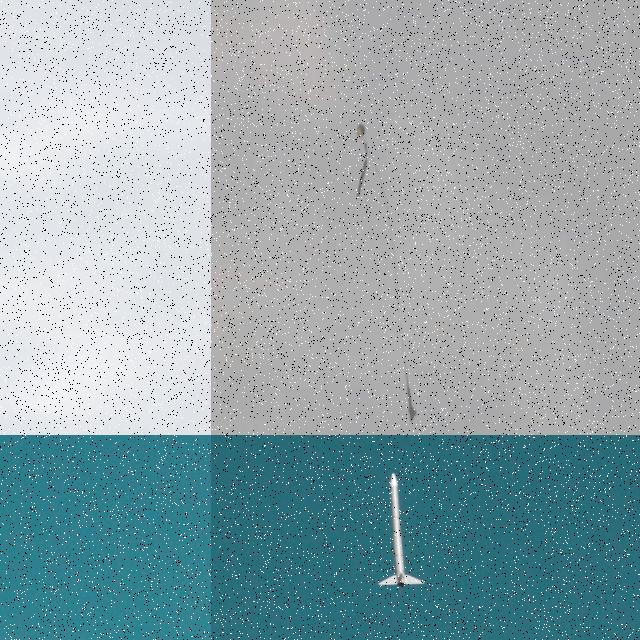Rocket: (376, 471, 426, 590), (405, 386, 417, 421)
